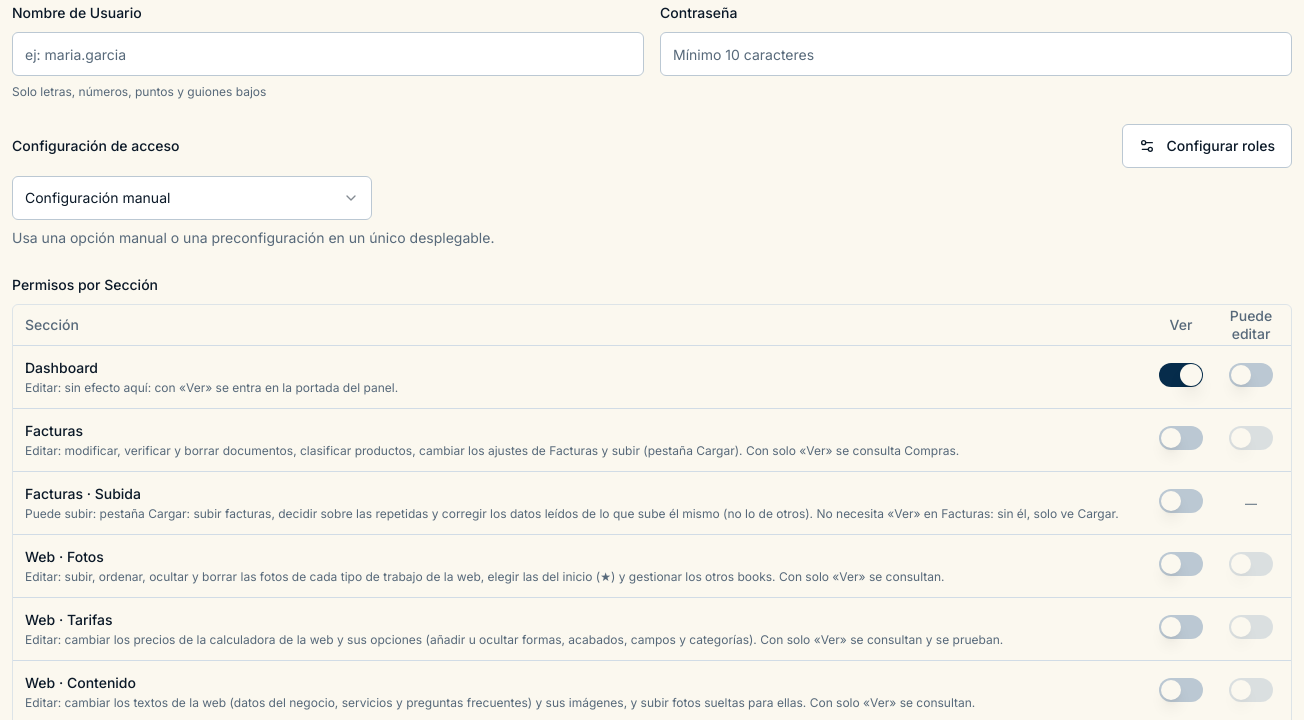
it: InvitarUsuario · «Puede editar» al crear › «Puede editar» no se activa sin «Ver», y quitar «Ver» lo apaga
Click the switch named "Puede editar Dashboard" at (1251, 375), box [1229,363,1273,387]
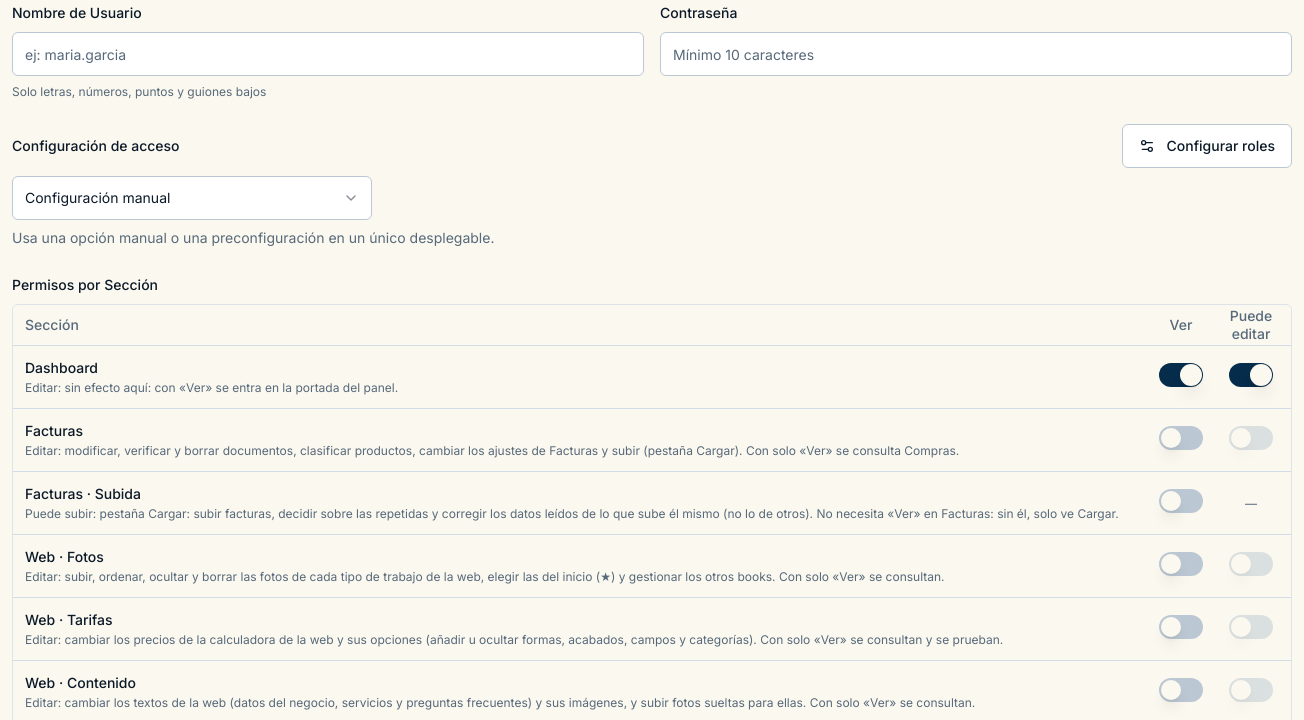
Click the switch named "Ver Dashboard" at (1181, 375), box [1159,363,1203,387]
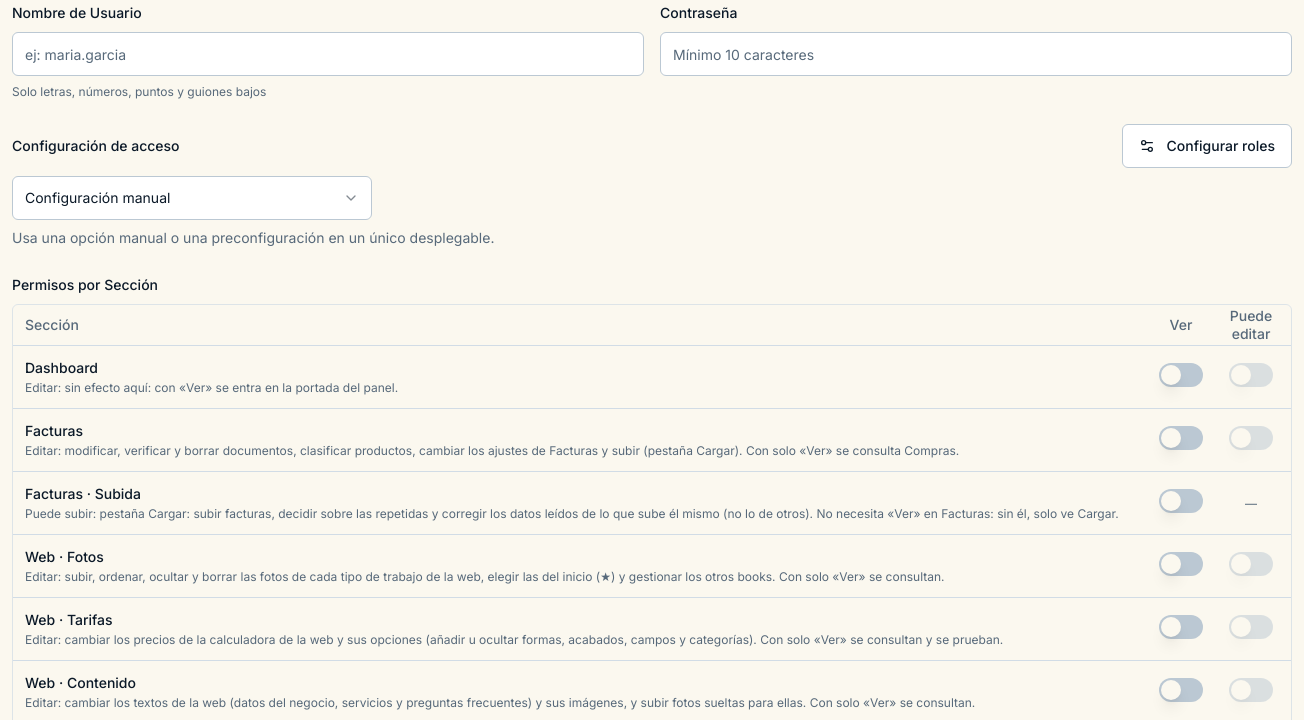
Check: the switch named "Puede editar Dashboard" is not checked, box [1229,363,1273,387]
Check: the switch named "Puede editar Dashboard" is disabled, box [1229,363,1273,387]
Click the switch named "Ver Dashboard" at (1181, 375), box [1159,363,1203,387]
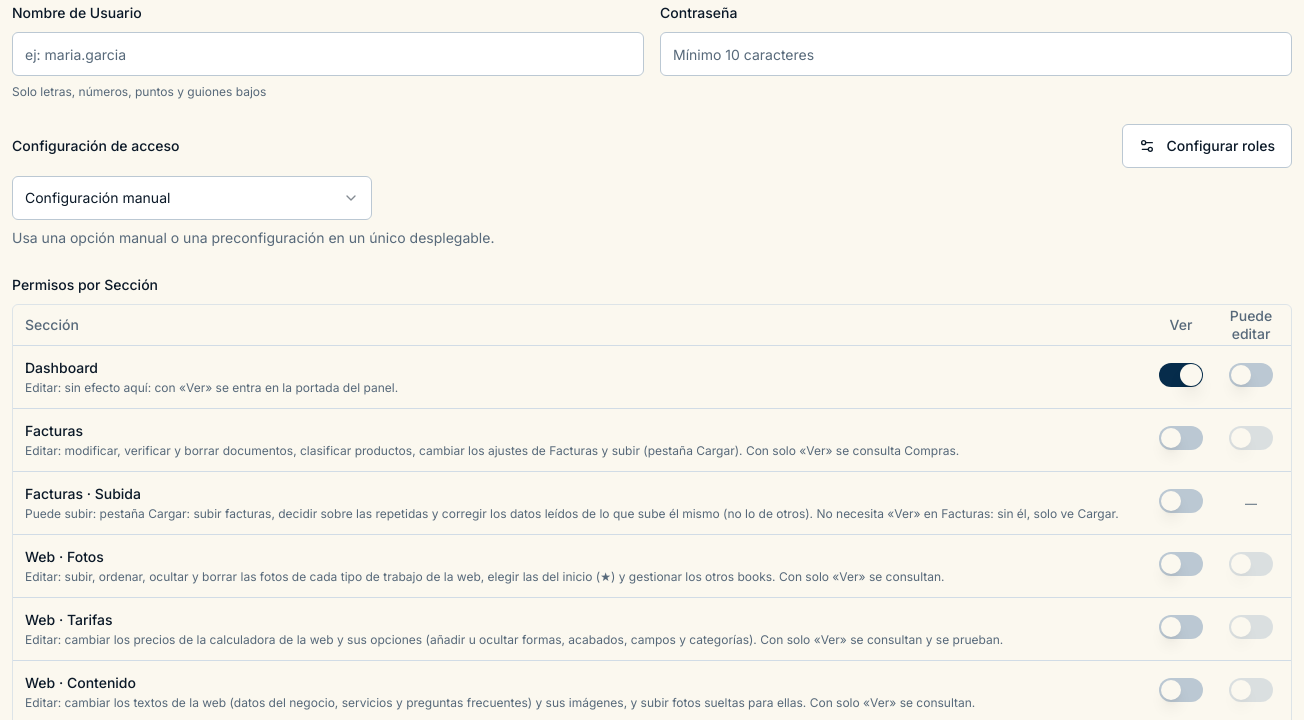
Check: the switch named "Puede editar Dashboard" is not checked, box [1229,363,1273,387]
Check: the switch named "Puede editar Dashboard" is enabled, box [1229,363,1273,387]
